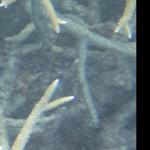dead: (1, 1, 134, 148)
